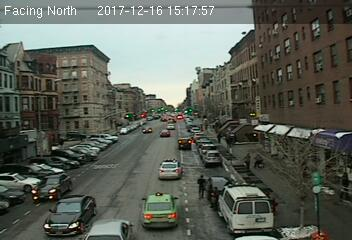car: (44, 195, 96, 236), (140, 192, 178, 228), (33, 173, 71, 199), (201, 151, 223, 165), (178, 137, 192, 148)
police: (215, 180, 275, 236), (158, 158, 183, 180)
